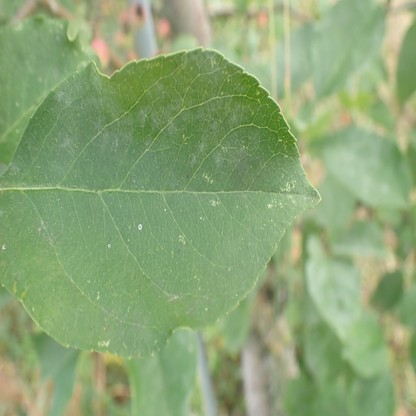powdery_mildew: (45, 57, 253, 165), (2, 164, 19, 187)
